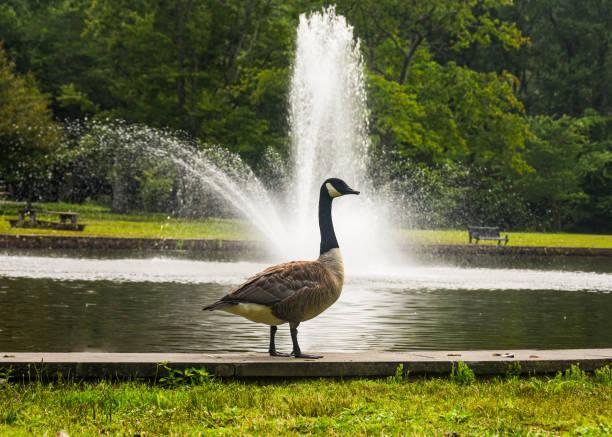Canadian-Goose: (212, 177, 361, 351)
